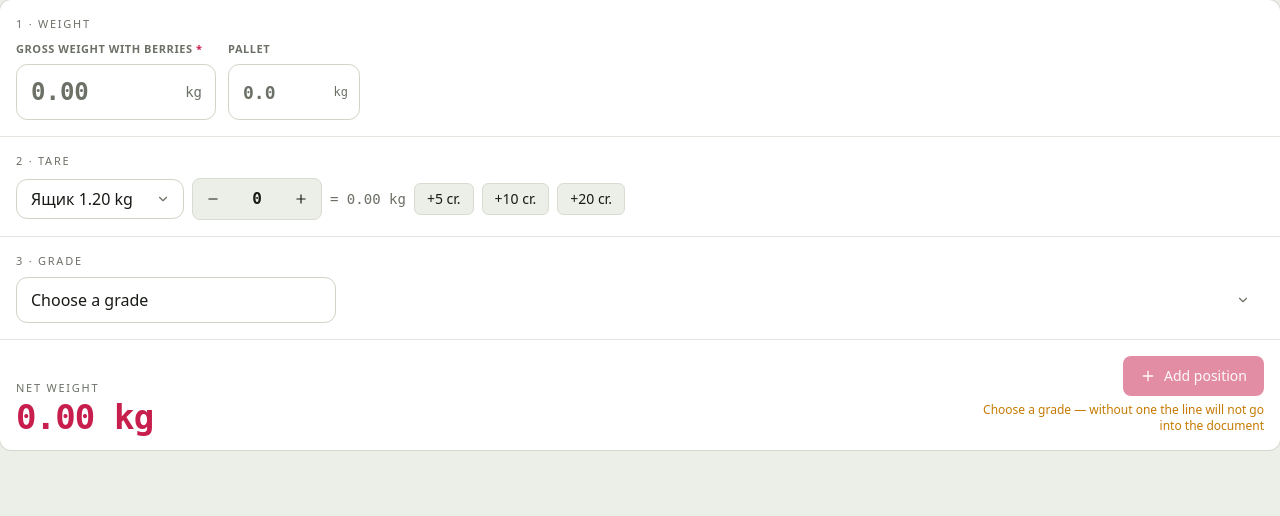
Scenario: WeighingForm › warns above the season record without blocking
Type "900" into the field labelled "Gross weight with berries".
click(116, 92); type("900")  # box [16,64,216,120]
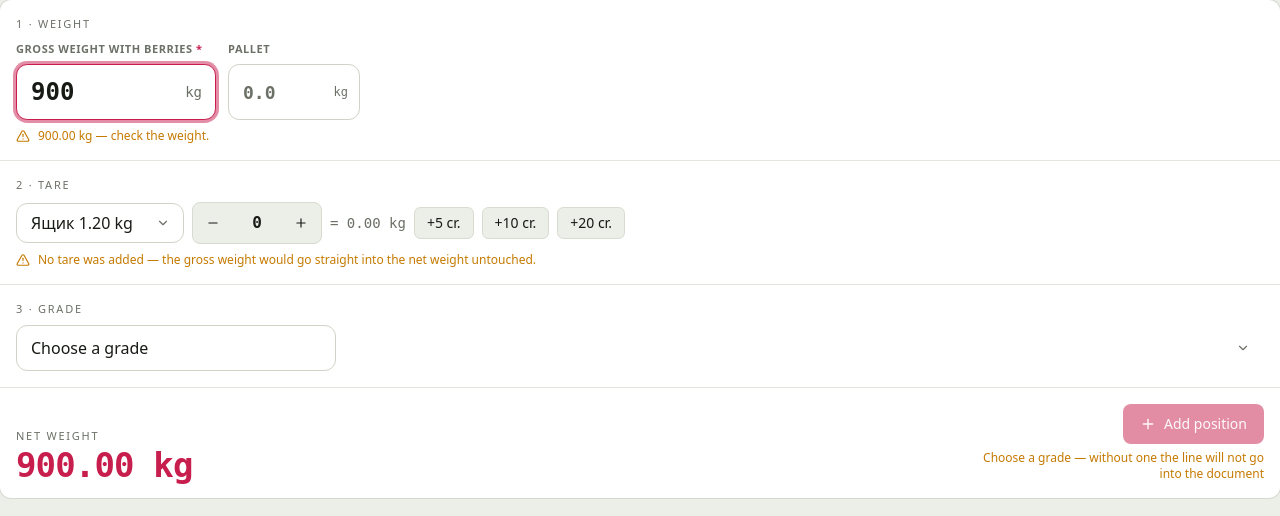
Check: the text "900.00 kg — check the weight." is shown, box [38,128,209,144]
a warning, never a block: with a grade chosen the button still works
Select "Малина 1" in the dropdown named "Grade" at (176, 348), box [16,325,336,371]
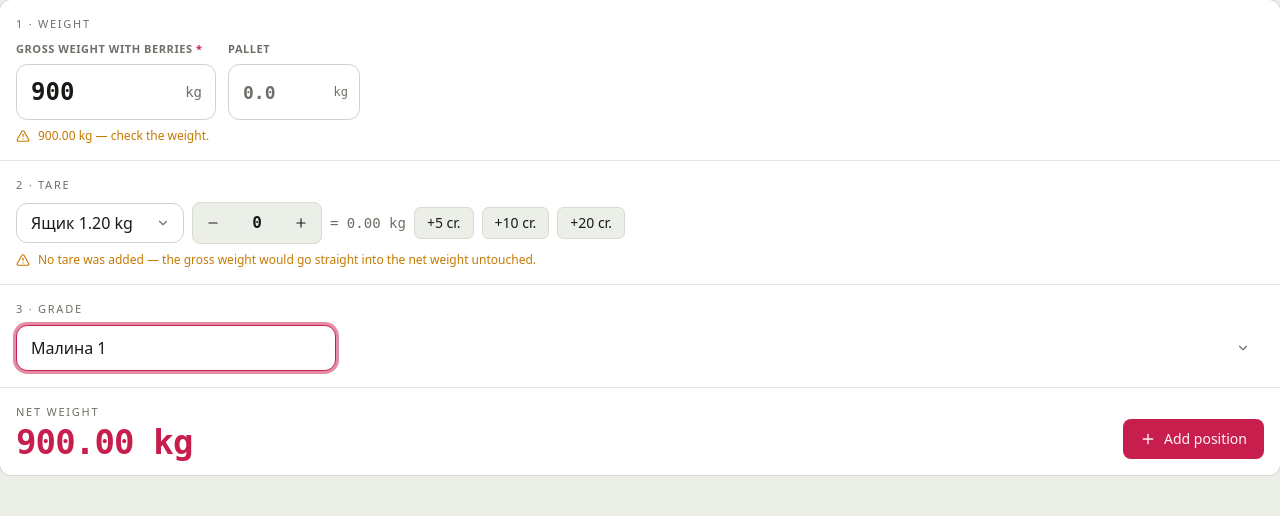
Check: the button "Add position" is enabled, box [1123,418,1264,458]
